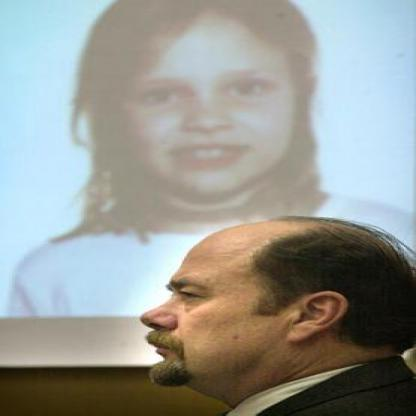face: (110, 1, 307, 196), (127, 218, 301, 390)
